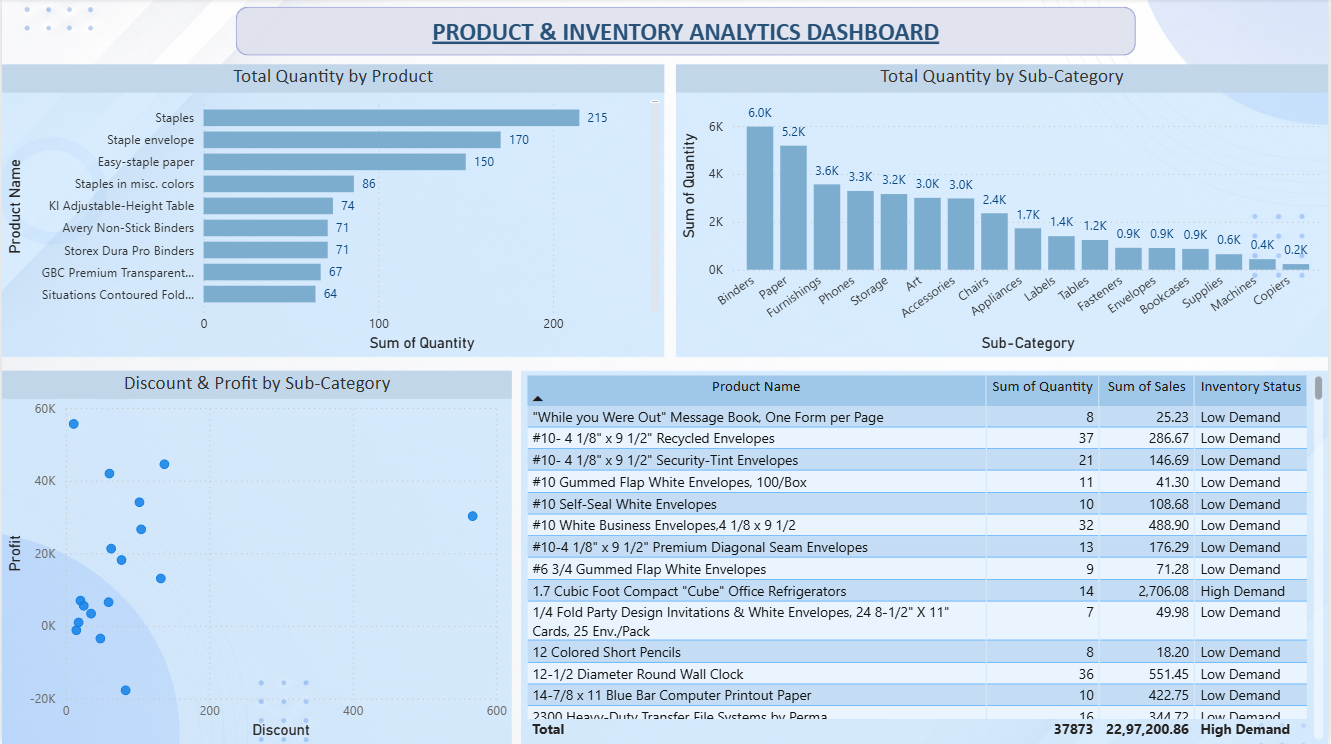

The dashboard page shown, as its layout file describes it:
{"tool":"powerbi","page":{"name":"Product Demand & Inventory Insights","canvas":[1280,720],"ordinal":1},"visuals":[{"type":"shape","title":"fvxc","box":[225.6,8.4,868.6,47.1],"z":0},{"type":"barChart","title":"Total Quantity by Product","fields":{"Category":["Cleaned_Superstore.Product Name"],"Y":["Sum(Cleaned_Superstore.Quantity)"]},"box":[0,63.9,639.4,282.3],"z":1000},{"type":"columnChart","title":"Total Quantity by Sub-Category","fields":{"Category":["Cleaned_Superstore.Sub-Category"],"Y":["Sum(Cleaned_Superstore.Quantity)"]},"box":[650.3,63.9,629.8,282.3],"z":2000},{"type":"tableEx","fields":{"Values":["Cleaned_Superstore.Product Name","Sum(Cleaned_Superstore.Quantity)","Sum(Cleaned_Superstore.Sales)","Measure.Inventory Status"]},"box":[500.7,359.5,779.4,360.7],"z":3000},{"type":"scatterChart","title":"Discount & Profit by Sub-Category","fields":{"Category":["Cleaned_Superstore.Sub-Category"],"Y":["Sum(Cleaned_Superstore.Profit)"],"X":["Sum(Cleaned_Superstore.Discount)"]},"box":[0,359.4,492.3,360.6],"z":4000}]}

Visuals, with their boxes in screenshot pixels (x1, y1, x2, y2), scaled from the page's 1280x720 canvas onto the 1331x744 screenshot:
"fvxc" shape: [235, 9, 1138, 57]
"Total Quantity by Product" barChart: [0, 66, 665, 358]
"Total Quantity by Sub-Category" columnChart: [676, 66, 1330, 358]
tableEx - Cleaned_Superstore.Product Name x Sum(Cleaned_Superstore.Quantity): [521, 371, 1330, 743]
"Discount & Profit by Sub-Category" scatterChart: [0, 371, 512, 743]
